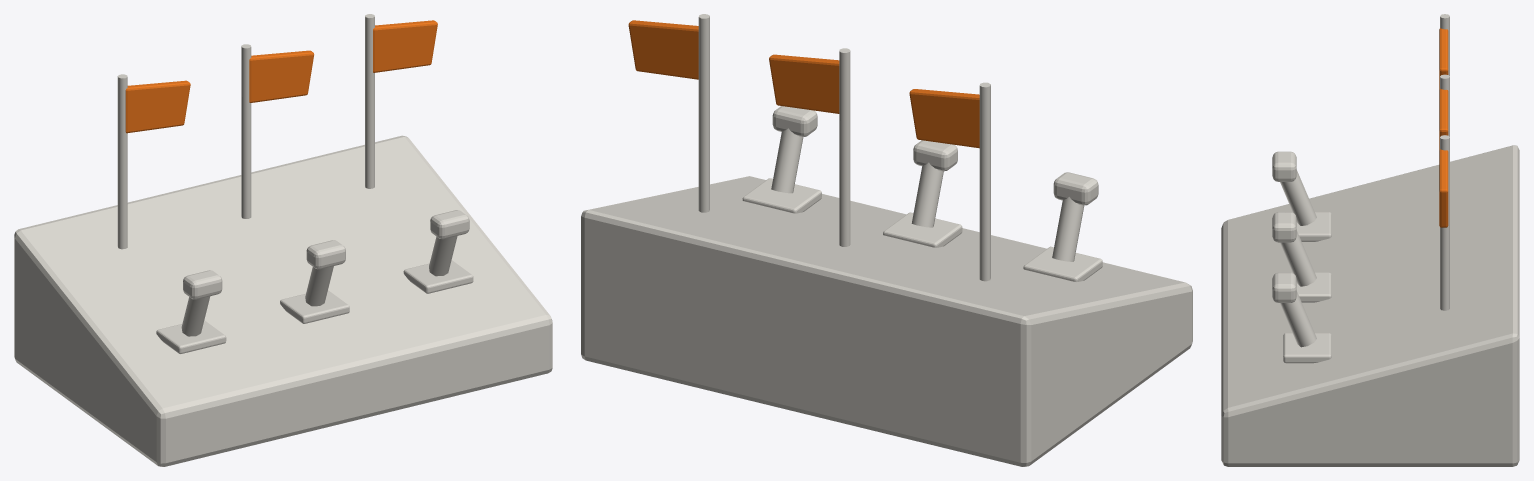
The model's file is flagz.glb.
3 renders of one model, left to right at view 1: azimuth 30°, elevation 25°; view 2: azimuth 150°, elevation 25°; view 3: azimuth 270°, elevation 25°, orthographic. The views are drawn at different scales.
Parts seen in each view (by area): view 1: sloped_panel, glazed_flag_lights, glazed_flag_cat, glazed_flag_sound, pin_lights, pin_cat, pin_sound, switch_socket_lights, switch_socket_sound, switch_socket_cat, toggle_grip_lights, toggle_grip_cat (+4 smaller); view 2: sloped_panel, glazed_flag_cat, glazed_flag_lights, glazed_flag_sound, pin_lights, pin_cat, pin_sound, switch_socket_cat, switch_socket_lights, switch_socket_sound, toggle_sound, toggle_cat (+4 smaller); view 3: sloped_panel, switch_socket_sound, pin_sound, toggle_sound, toggle_cat, toggle_lights, switch_socket_cat, switch_socket_lights, glazed_flag_sound, toggle_grip_lights, toggle_grip_sound, toggle_grip_cat (+2 smaller).
Part boxes in pixels (x1,y1,x2,y2): sloped_panel: (14, 135, 552, 466); glazed_flag_lights: (125, 80, 190, 133); glazed_flag_cat: (249, 50, 314, 102); glazed_flag_sound: (373, 20, 437, 72); pin_lights: (117, 74, 127, 249); pin_cat: (241, 44, 251, 218); pin_sound: (365, 14, 374, 188); switch_socket_lights: (156, 320, 226, 353); switch_socket_sound: (403, 260, 473, 293); switch_socket_cat: (280, 290, 349, 323); toggle_grip_lights: (183, 270, 222, 299); toggle_grip_cat: (306, 240, 345, 269); sloped_panel: (581, 176, 1192, 466); glazed_flag_cat: (769, 54, 839, 113); glazed_flag_lights: (909, 89, 979, 148); glazed_flag_sound: (628, 20, 698, 79); pin_lights: (979, 82, 990, 281); pin_cat: (839, 48, 850, 246); pin_sound: (698, 14, 709, 212); switch_socket_cat: (883, 212, 962, 247); switch_socket_lights: (1023, 246, 1102, 281); switch_socket_sound: (742, 178, 821, 213); toggle_sound: (771, 128, 803, 193); toggle_cat: (911, 162, 943, 227); sloped_panel: (1221, 145, 1519, 466); switch_socket_sound: (1283, 333, 1331, 363); pin_sound: (1440, 135, 1449, 310); toggle_sound: (1280, 291, 1316, 347); toggle_cat: (1280, 230, 1316, 286); toggle_lights: (1280, 170, 1316, 225); switch_socket_cat: (1291, 272, 1331, 302); switch_socket_lights: (1285, 212, 1331, 241); glazed_flag_sound: (1439, 149, 1448, 227); toggle_grip_lights: (1272, 151, 1296, 181); toggle_grip_sound: (1272, 272, 1296, 302); toggle_grip_cat: (1272, 212, 1296, 242).
Bounding box in the file's own units: 0.4 × 0.285 × 0.26.
